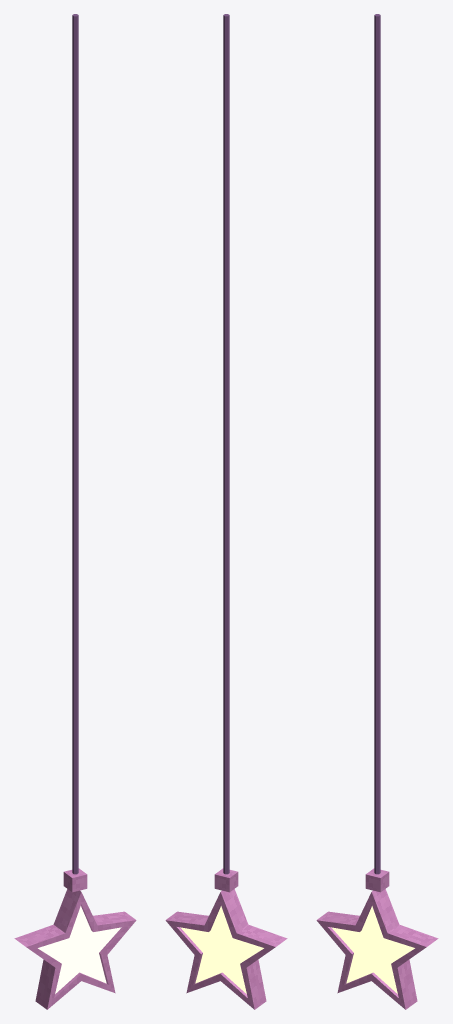
The model's file is star_lamp.glb.
The picture shows the model from 3 angles, left to right: view 1: azimuth 30°, elevation 25°; view 2: azimuth 150°, elevation 25°; view 3: azimuth 330°, elevation 25°; orthographic projection.
Visible parts, largest first — view 1: Cable, Housing, Emitter, Cap; view 2: Cable, Housing, Emitter, Cap; view 3: Cable, Housing, Emitter, Cap.
Part boxes in pixels (x1,y1,x2,y2): Cable: [72, 14, 78, 874]; Housing: [14, 889, 136, 1009]; Emitter: [38, 906, 121, 993]; Cap: [63, 868, 87, 892]; Cable: [223, 14, 229, 874]; Housing: [165, 889, 287, 1009]; Emitter: [180, 906, 263, 993]; Cap: [214, 868, 238, 892]; Cable: [374, 14, 380, 874]; Housing: [316, 889, 438, 1009]; Emitter: [331, 906, 414, 993]; Cap: [365, 868, 389, 892].
Size of the model in its own units: 1.62 by 13.74 by 0.3.
3 materials, 1 textured.
